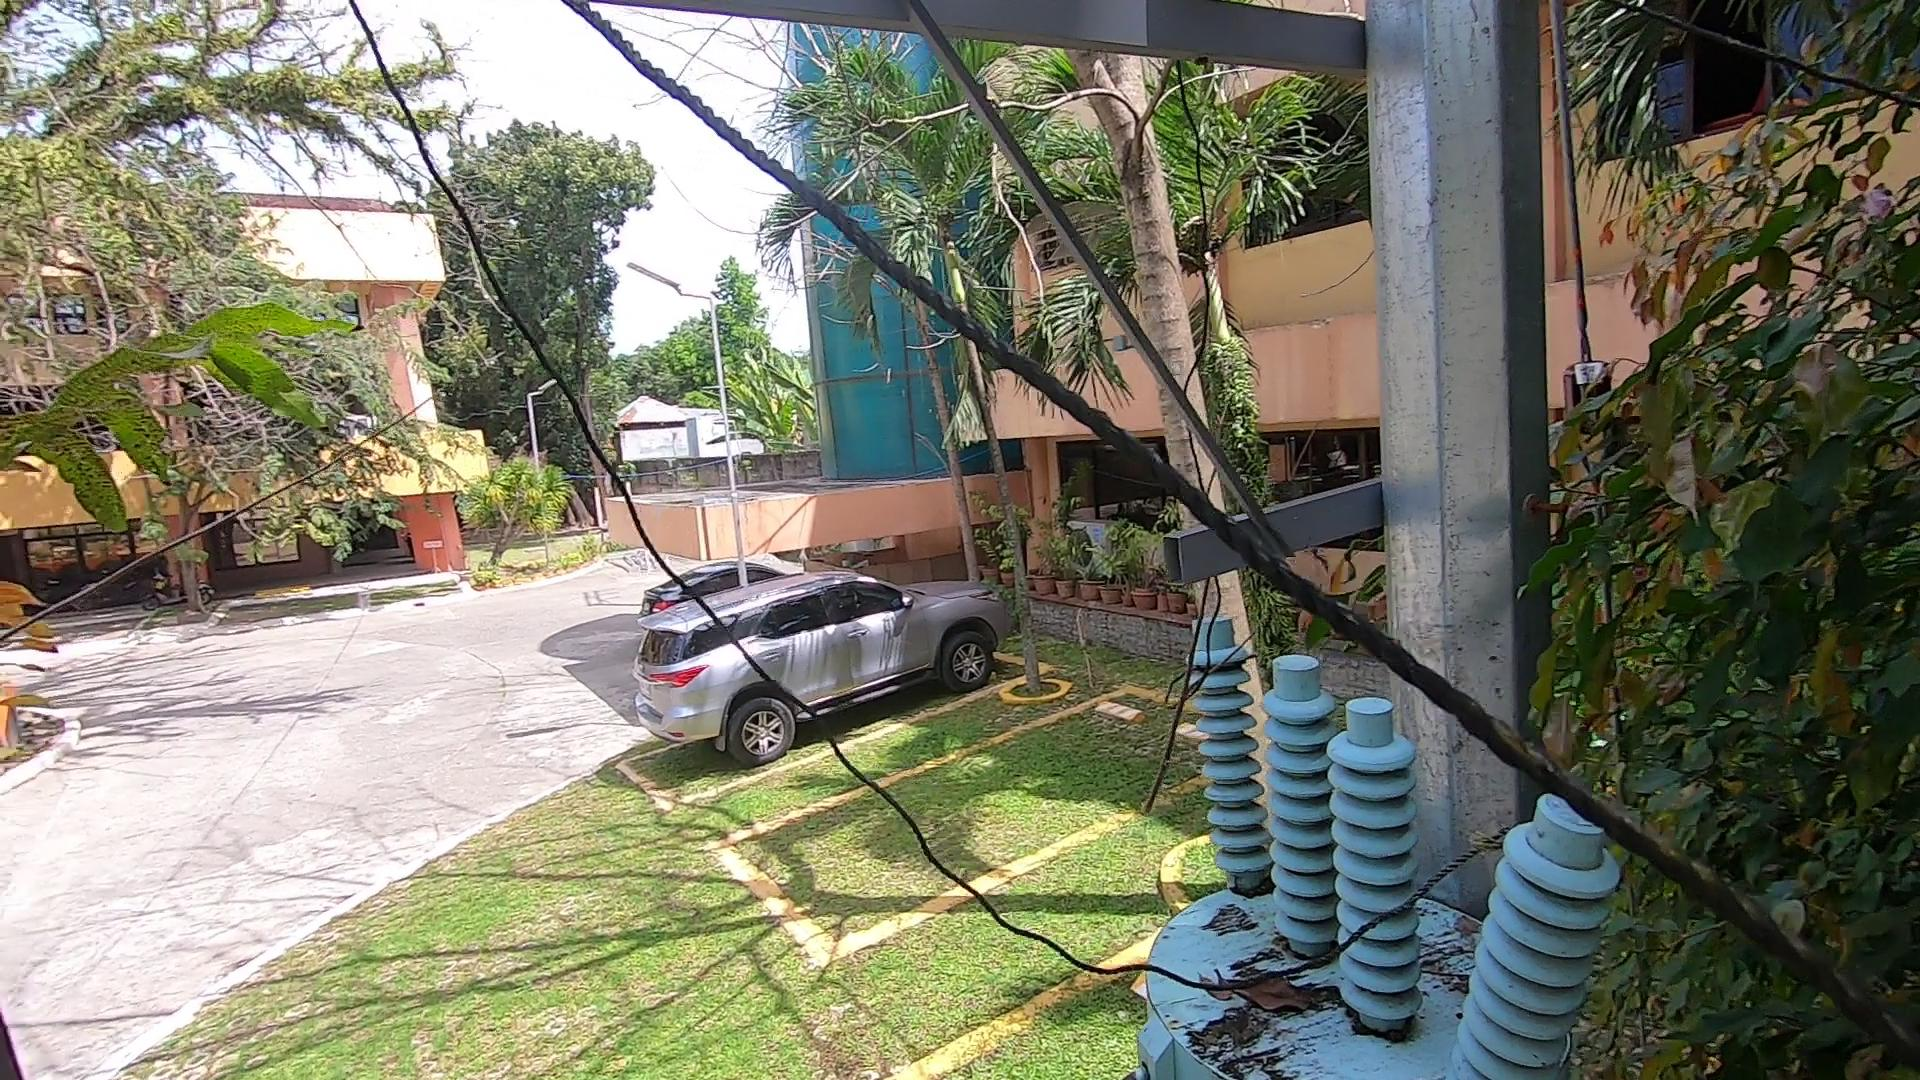leaf: (1195, 960, 1327, 1036), (1229, 866, 1274, 916)
tree branch: (1104, 348, 1273, 839)
